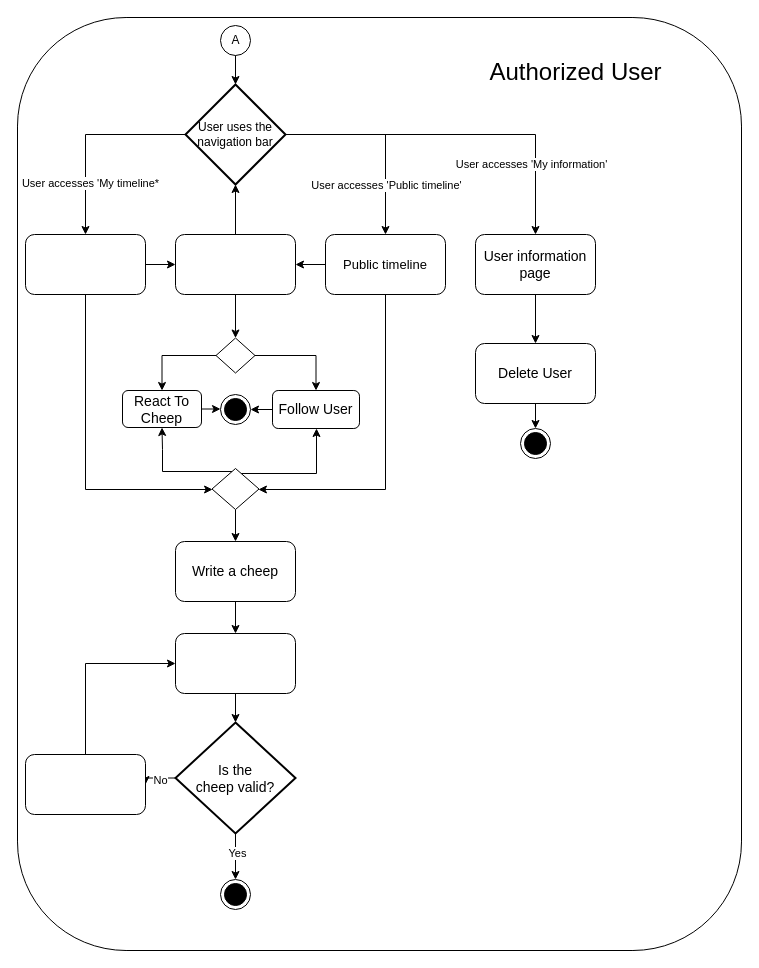
Some shapes in this 759 by 968 pixel diagram are drawn without their labels. The shapes that lost their labels are listed below. From the top down, each one's box as (x1, y1, x2, y2) in pixels, then its label:
(24, 234, 146, 294): My timeline
(174, 234, 296, 294): User timeline
(174, 632, 296, 694): Share cheep
(24, 754, 146, 814): Display a warning
